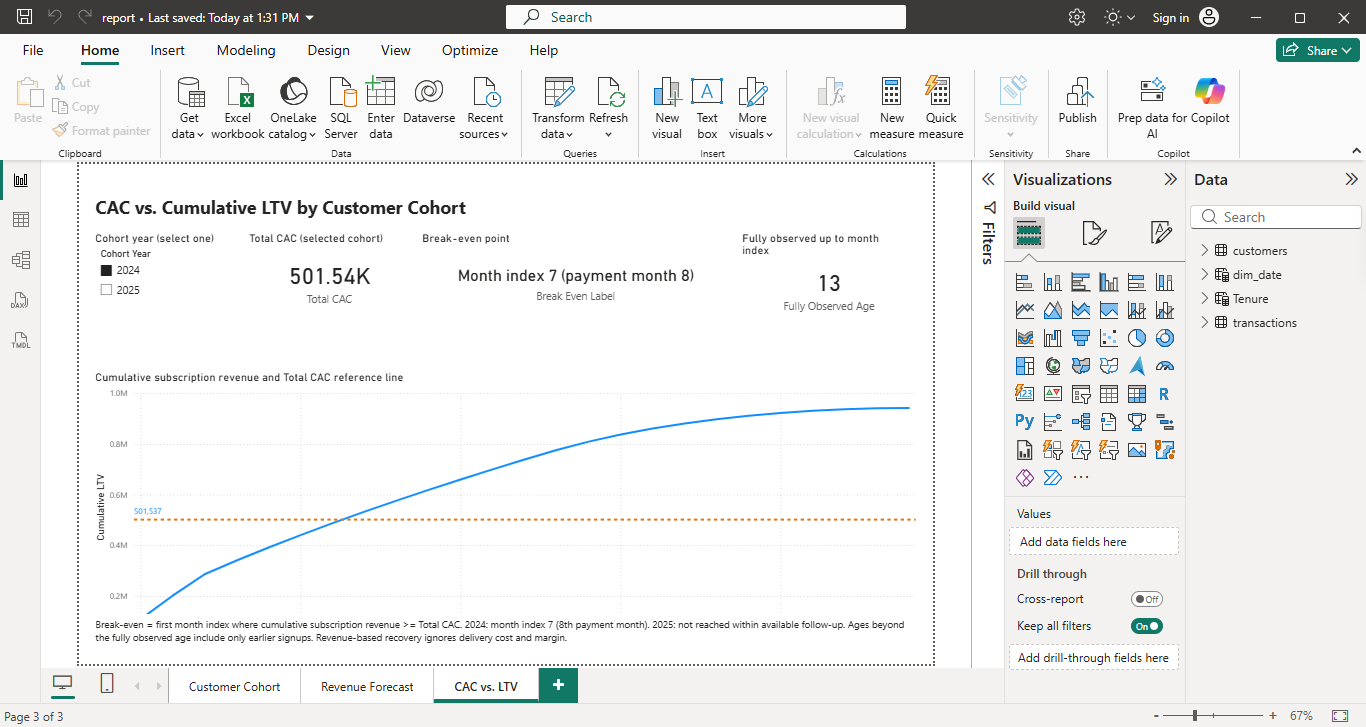

Layout of this report page (visuals, bound fields, positions):
{"tool":"powerbi","page":{"name":"CAC vs. LTV","canvas":[1280,720],"ordinal":2},"visuals":[{"type":"textbox","box":[20,10,1240,50],"z":0},{"type":"slicer","title":"Cohort year (select one)","fields":{"Values":["customers.Cohort Year"]},"box":[20,70,220,130],"z":1},{"type":"card","title":"Total CAC (selected cohort)","fields":{"Values":["transactions.Total CAC"]},"box":[250,70,250,130],"z":2},{"type":"card","title":"Break-even point","fields":{"Values":["transactions.Break Even Label"]},"box":[510,70,470,130],"z":3},{"type":"card","title":"Fully observed up to month index","fields":{"Values":["transactions.Fully Observed Age"]},"box":[990,70,270,130],"z":4},{"type":"lineChart","title":"Cumulative subscription revenue and Total CAC reference line","fields":{"Category":["Tenure.Value"],"Y":["transactions.Cumulative LTV"]},"box":[20.2,278.8,1240,420],"z":5},{"type":"textbox","box":[20,645,1240,65],"z":6}]}

Visuals, with their boxes on the page's 1280x720 design canvas (x1, y1, x2, y2). These are canvas units, not pixel positions in the 1366x727 screenshot, which may show the page scaled, cropped or inside an application window:
textbox: 20:10:1260:60
"Cohort year (select one)" slicer: 20:70:240:200
"Total CAC (selected cohort)" card: 250:70:500:200
"Break-even point" card: 510:70:980:200
"Fully observed up to month index" card: 990:70:1260:200
"Cumulative subscription revenue and Total CAC reference line" lineChart: 20:279:1260:699
textbox: 20:645:1260:710
